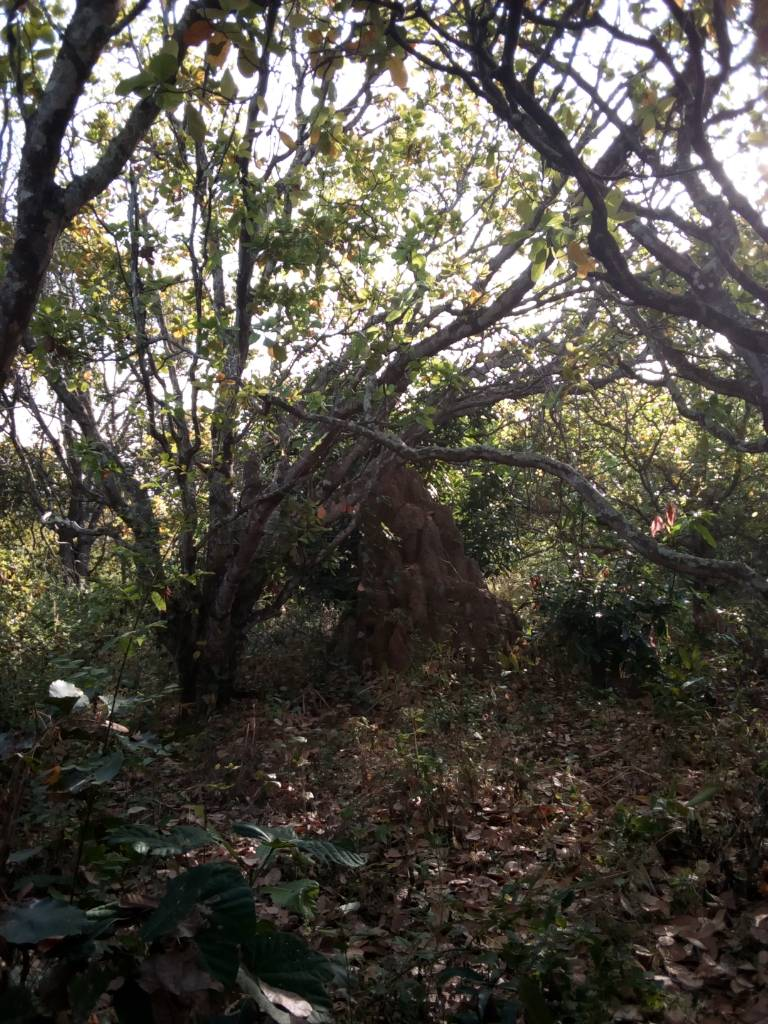Termites: (369, 456, 486, 641)
